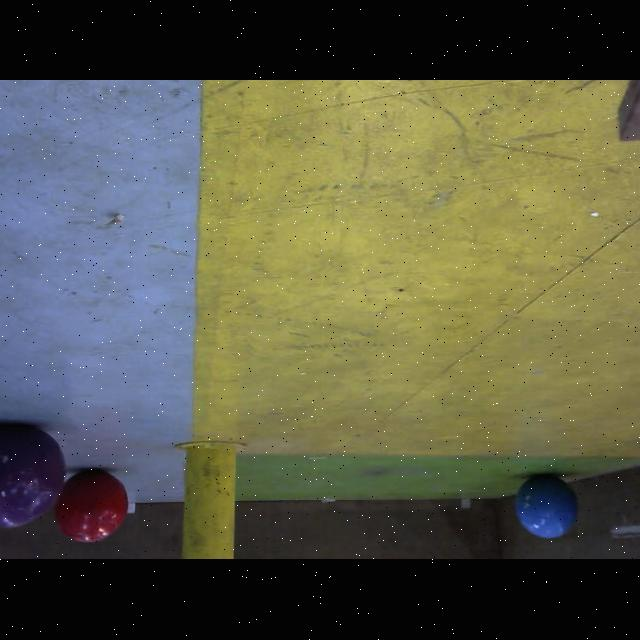B: (514, 474, 578, 540)
P: (0, 424, 66, 530)
R: (52, 470, 128, 546)
